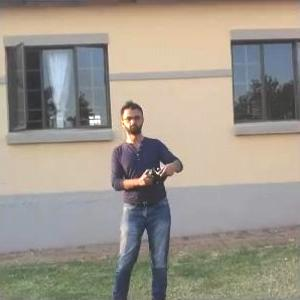follow: (108, 96, 188, 299)
